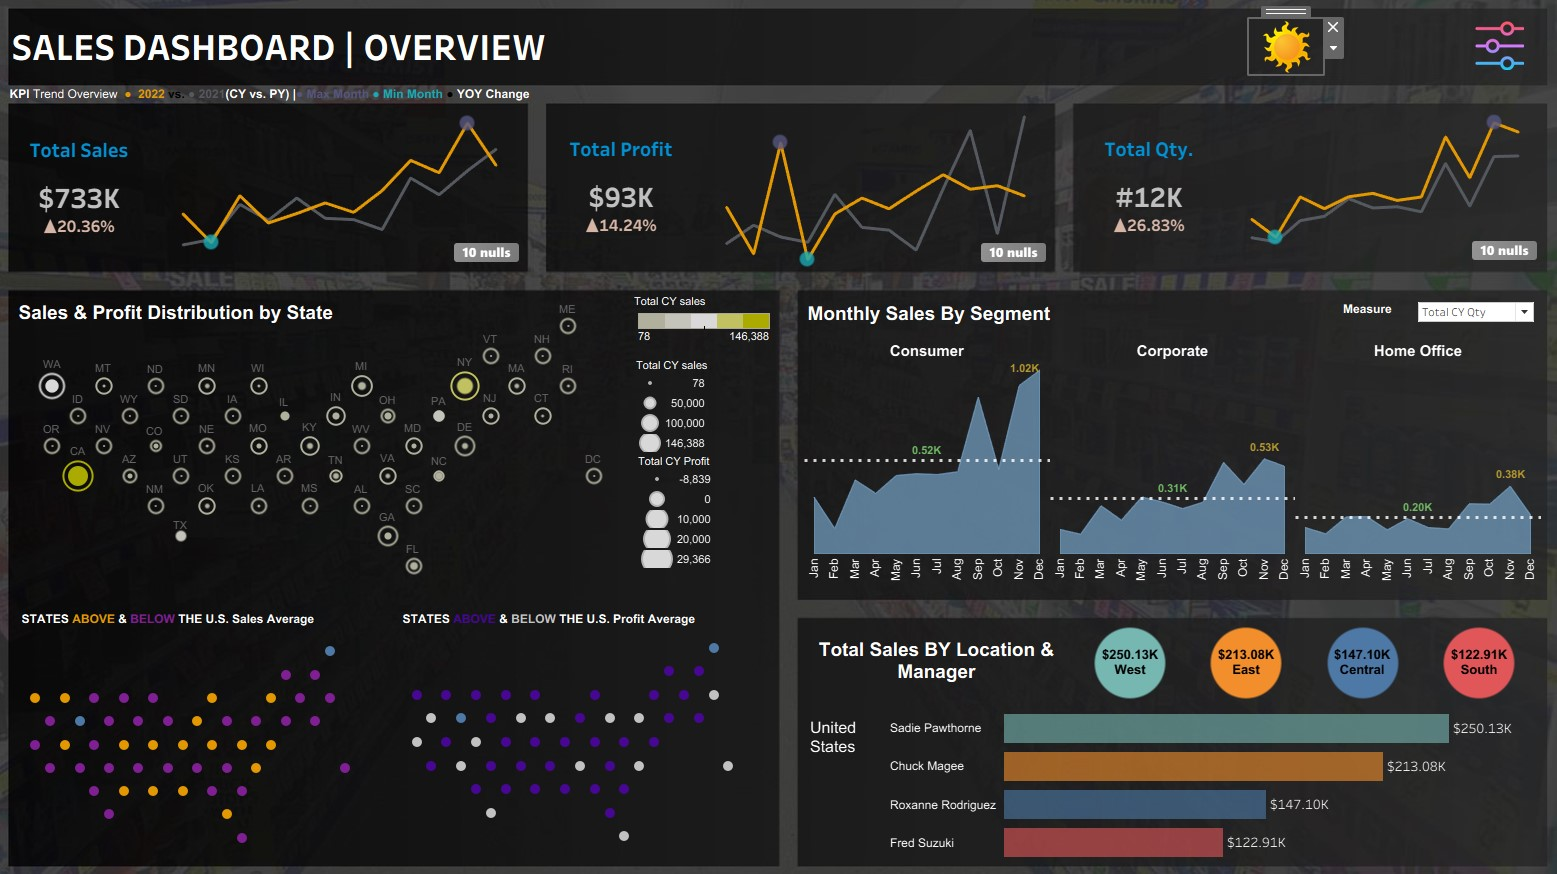

What the dashboard file says about the page in this screenshot:
{"tool":"tableau","page":{"name":"Dashboard 1","canvas":[1600,900],"ordinal":0},"visuals":[{"type":"image","param":"D:/TABLEAU PROJECT/SALES PERFORMENCE DASHBOARD/Sales Dashboard Background.jpg","box":[8,8,1584,884]},{"type":"text","box":[30,21,654,76]},{"type":"dashboard-object","box":[1270,32,74,55]},{"type":"dashboard-object","box":[1494,34,53,49]},{"type":"filter","title":"Sales & Profit","param":"[federated.0lfznhx16vma051abrpg308ufidc].[none:Country/Region:nk]","box":[1337,41,157,52]},{"type":"text","box":[28,92,526,30]},{"type":"filter","title":"Sales & Profit","param":"[federated.0lfznhx16vma051abrpg308ufidc].[none:Region:nk]","box":[1337,93,157,52]},{"type":"worksheet","title":"Profit KPI ","mark":"Automatic","box":[568,116,148,168]},{"type":"worksheet","title":"Profit Sparkeline","mark":"Automatic","rows":["Min Max Month Sales (copy)_0357895776915456"],"cols":["Order Date"],"box":[716,116,360,168]},{"type":"worksheet","title":"Sales KPI","mark":"Automatic","box":[29,117,142,167]},{"type":"worksheet","title":"Sales Sparkline","mark":"Automatic","rows":["Calculation_0206987475914764"],"cols":["Order Date"],"box":[171,117,378,167]},{"type":"worksheet","title":"Qty KPI ","mark":"Automatic","box":[1095,117,149,165]},{"type":"worksheet","title":"Qty Sparkeline ","mark":"Automatic","rows":["Min Max Month Profit (copy)_0357895778832385"],"cols":["Order Date"],"box":[1244,117,323,165]},{"type":"filter","title":"Sales & Profit","param":"[federated.0lfznhx16vma051abrpg308ufidc].[none:Ship Mode:nk]","box":[1337,145,157,52]},{"type":"filter","title":"Sales & Profit","param":"[federated.0lfznhx16vma051abrpg308ufidc].[none:Category:nk]","box":[1337,197,157,52]},{"type":"legend","title":"Sales & Profit","param":"[federated.0lfznhx16vma051abrpg308ufidc].[sum:Total CY Qty (copy)_02069874705408","box":[655,308,140,60]},{"type":"worksheet","title":"Sales & Profit","mark":"Circle","rows":["Row"],"cols":["Column","Column"],"box":[34,309,616,300]},{"type":"text","box":[826,309,343,35]},{"type":"text","box":[37,311,339,30]},{"type":"parameter","param":"[Parameters].[Parameter 1]","box":[1364,312,194,30]},{"type":"worksheet","title":"Monthly Sales by segment","mark":"Area","rows":["Calculation_0963452516282368"],"cols":["Segment","Order Date"],"box":[825,354,737,253]},{"type":"legend","title":"Sales & Profit","param":"[federated.0lfznhx16vma051abrpg308ufidc].[sum:Total CY Qty (copy)_02069874705408","box":[657,372,140,98]},{"type":"legend","title":"Sales & Profit","param":"[federated.0lfznhx16vma051abrpg308ufidc].[sum:Total CY sales (copy)_020698747145","box":[659,468,140,118]},{"type":"text","box":[40,617,298,30]},{"type":"text","box":[421,617,298,30]},{"type":"worksheet","title":"AVG Profit by state ","mark":"Circle","rows":["Row"],"cols":["Column"],"box":[417,637,353,236]},{"type":"worksheet","title":"Region Wise sale","mark":"Circle","cols":["Region"],"box":[1093,637,465,77]},{"type":"text","box":[826,639,263,70]},{"type":"worksheet","title":"AVG sales by state","mark":"Circle","rows":["Row"],"cols":["Column"],"box":[36,641,350,233]},{"type":"worksheet","title":"Total Sales by country & manager","mark":"Automatic","rows":["Country/Region","Regional Manager"],"cols":["Total CY Qty (copy)_0206987470540804"],"box":[825,722,734,153]}]}

Visuals, with their boxes in screenshot pixels (x1, y1, x2, y2), scaled from the page's 1600x900 canvas onto the 1557x874 screenshot:
image: bbox=[8, 8, 1549, 866]
text: bbox=[29, 20, 666, 94]
dashboard-object: bbox=[1236, 31, 1308, 84]
dashboard-object: bbox=[1454, 33, 1505, 81]
"Sales & Profit" filter: bbox=[1301, 40, 1454, 90]
text: bbox=[27, 89, 539, 118]
"Sales & Profit" filter: bbox=[1301, 90, 1454, 141]
"Profit KPI " worksheet: bbox=[553, 113, 697, 276]
"Profit Sparkeline" worksheet: bbox=[697, 113, 1047, 276]
"Sales KPI" worksheet: bbox=[28, 114, 166, 276]
"Sales Sparkline" worksheet: bbox=[166, 114, 534, 276]
"Qty KPI " worksheet: bbox=[1066, 114, 1211, 274]
"Qty Sparkeline " worksheet: bbox=[1211, 114, 1525, 274]
"Sales & Profit" filter: bbox=[1301, 141, 1454, 191]
"Sales & Profit" filter: bbox=[1301, 191, 1454, 242]
"Sales & Profit" legend: bbox=[637, 299, 774, 357]
"Sales & Profit" worksheet (Circle marks): bbox=[33, 300, 633, 591]
text: bbox=[804, 300, 1138, 334]
text: bbox=[36, 302, 366, 331]
parameter: bbox=[1327, 303, 1516, 332]
"Monthly Sales by segment" worksheet (Area marks): bbox=[803, 344, 1520, 589]
"Sales & Profit" legend: bbox=[639, 361, 776, 456]
"Sales & Profit" legend: bbox=[641, 454, 778, 569]
text: bbox=[39, 599, 329, 628]
text: bbox=[410, 599, 700, 628]
"AVG Profit by state " worksheet (Circle marks): bbox=[406, 619, 749, 848]
"Region Wise sale" worksheet (Circle marks): bbox=[1064, 619, 1516, 693]
text: bbox=[804, 621, 1060, 689]
"AVG sales by state" worksheet (Circle marks): bbox=[35, 622, 376, 849]
"Total Sales by country & manager" worksheet: bbox=[803, 701, 1517, 850]
